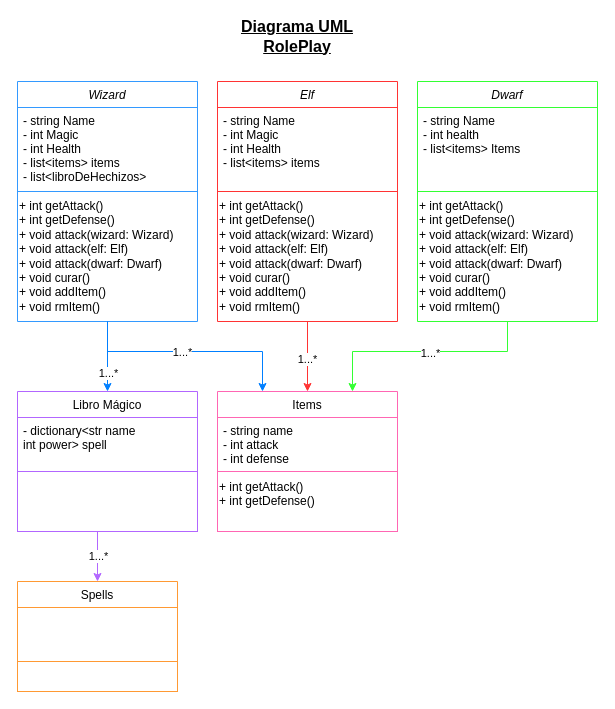
Image size: 615x709. Some labels were removed from this diagram. Here are the shapes that lost their labels. From the top down, the centre of each, then its label:
At pixel 107 501: "+ int attack() + void addSpell() + void rmSpell()".
At pixel 97 634: "- string name - int attack".
At pixel 97 676: "+ int getAttack()".
